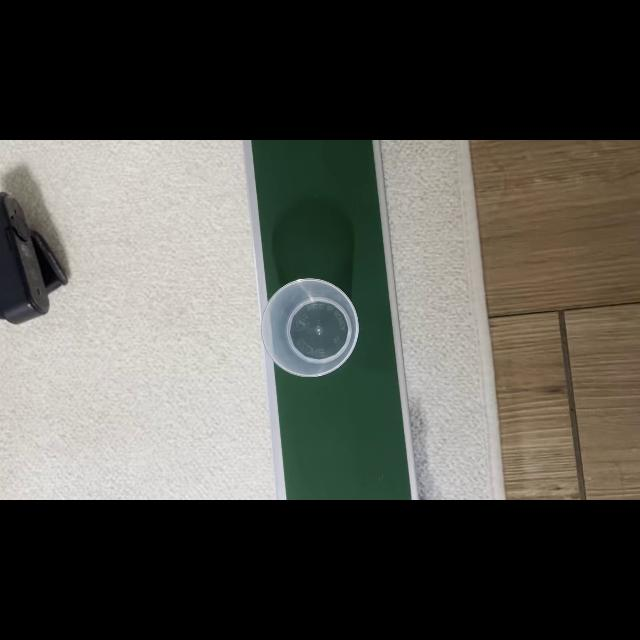clean: (268, 284, 348, 374)
